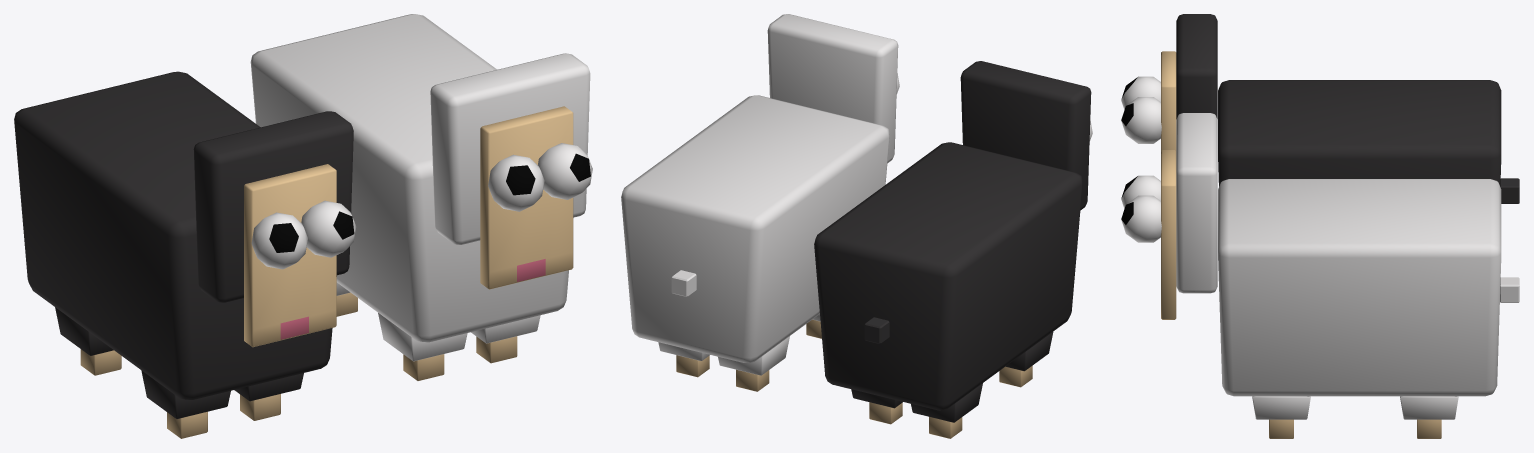
Rendered from Sheep.glb.
3 views of the same model, side by side, from view 1: azimuth 30°, elevation 25°; view 2: azimuth 150°, elevation 25°; view 3: azimuth 270°, elevation 25° (orthographic). The views are drawn at different scales.
Visible parts, largest first — view 1: black, white; view 2: black, white; view 3: white, black.
Part boxes in pixels (box(x1,y1,x2,y2)): black: box(14, 71, 356, 438); white: box(250, 14, 592, 380); black: box(814, 61, 1092, 438); white: box(621, 14, 899, 391); white: box(1121, 113, 1519, 438); black: box(1121, 14, 1519, 203).
Bounding box in the file's own units: 2.36 × 1.79 × 2.32.
Materials: 1 (1 with a texture image).
